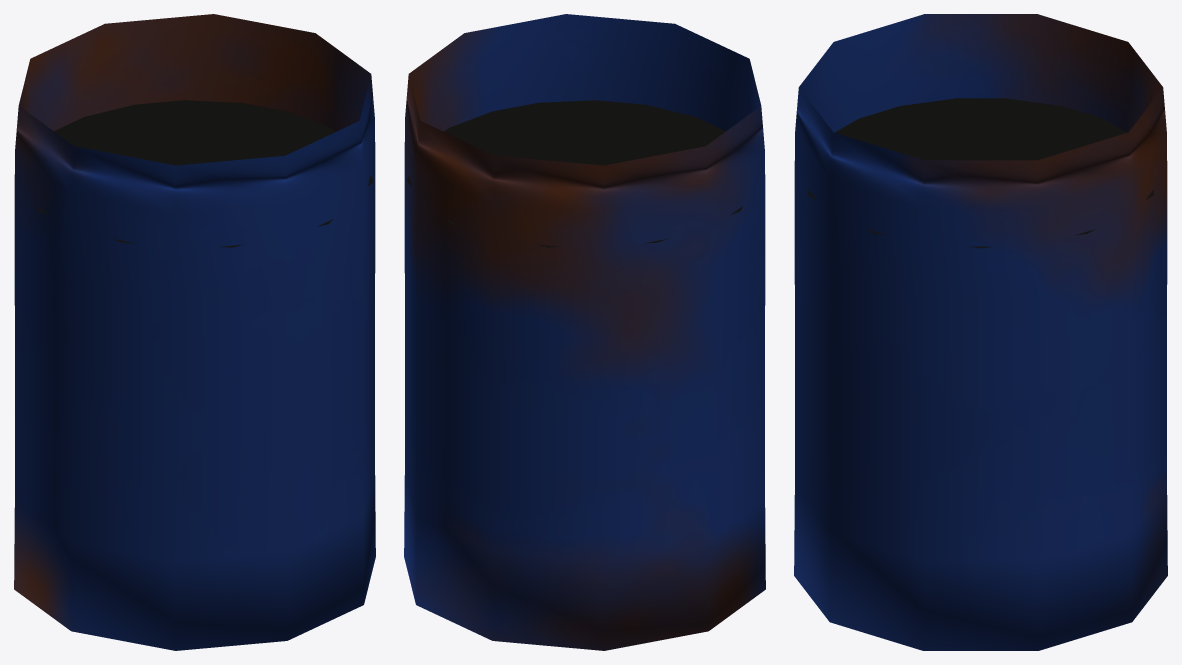
The model's file is barrelOpen_L0.glb.
3 renders of one model, left to right at view 1: azimuth 30°, elevation 25°; view 2: azimuth 150°, elevation 25°; view 3: azimuth 270°, elevation 25°, orthographic.
Visible parts, largest first — view 1: drum, liquid; view 2: drum, liquid; view 3: drum, liquid.
Boxes of the visible parts, box(x1,y1,x2,y2) form: drum: box(14, 14, 375, 650); liquid: box(37, 100, 373, 247); drum: box(404, 14, 765, 650); liquid: box(406, 100, 742, 247); drum: box(794, 14, 1167, 650); liquid: box(808, 98, 1153, 248).
Size of the model in its own units: 0.559 by 0.8435 by 0.5756.
Materials: 2 (1 with a texture image).
